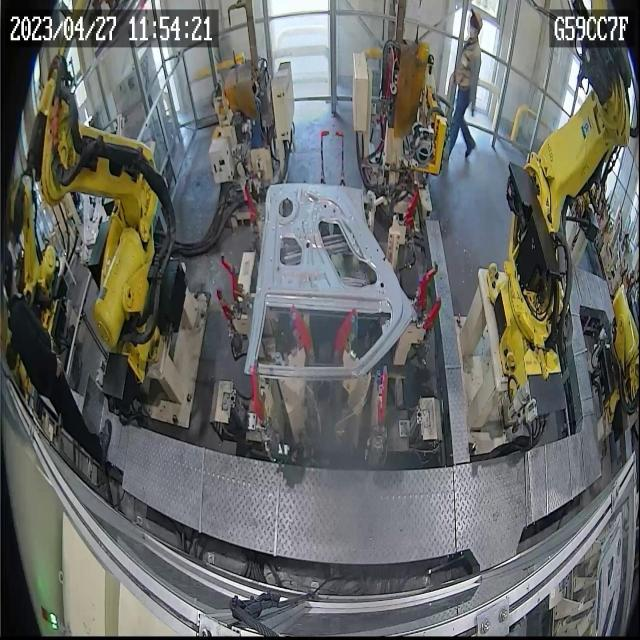Person: (3, 246, 113, 474), (446, 8, 483, 162)
